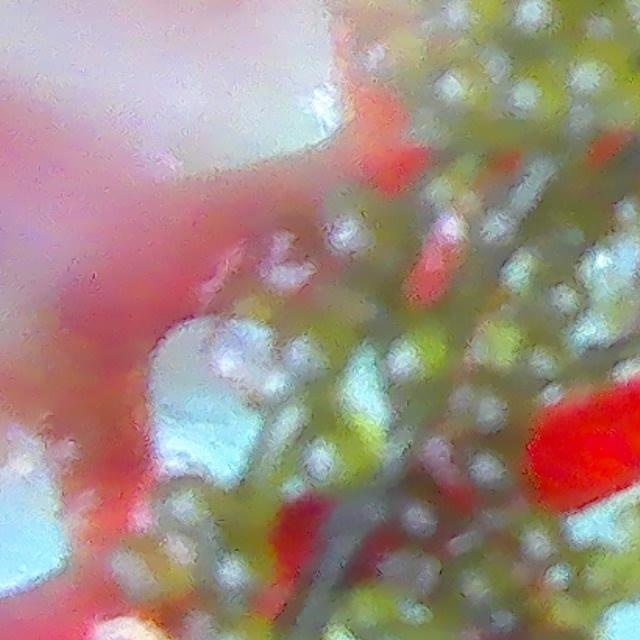SeaGrape: (557, 35, 639, 117), (375, 314, 454, 392), (304, 417, 383, 495), (423, 63, 498, 137), (508, 73, 569, 132), (511, 0, 560, 43)
